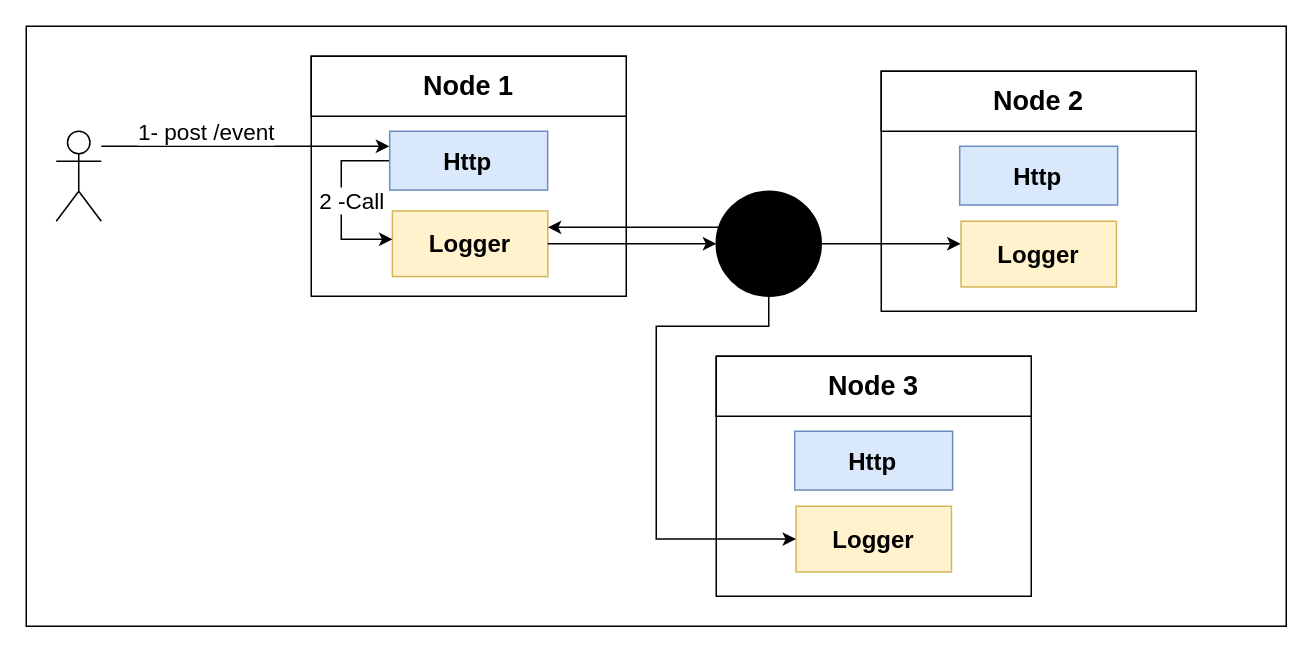
The diagram is 1313 pixels wide and 653 high, and some of its shapes have lost their labels. Each missing label, with the centre of its shape:
3 - Multicall: pixel 768 243
Actor: pixel 78 175
